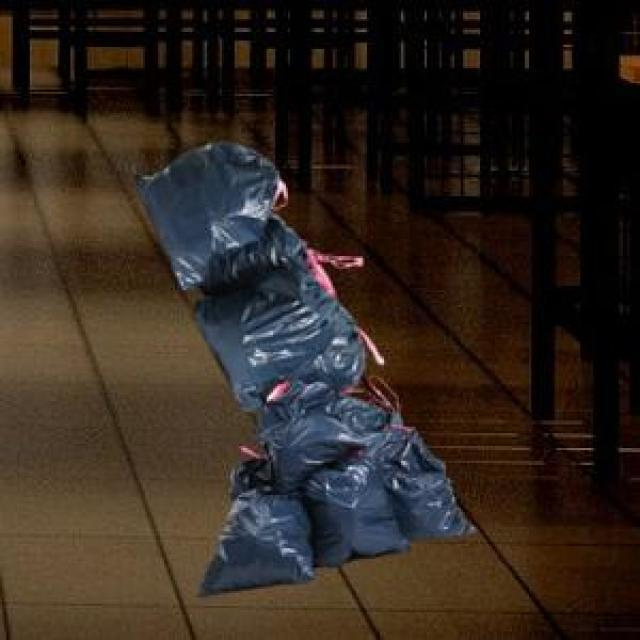Trashbag: (144, 141, 276, 286), (207, 276, 341, 399), (213, 489, 307, 594), (260, 386, 356, 482), (319, 456, 387, 556), (386, 443, 458, 526)
